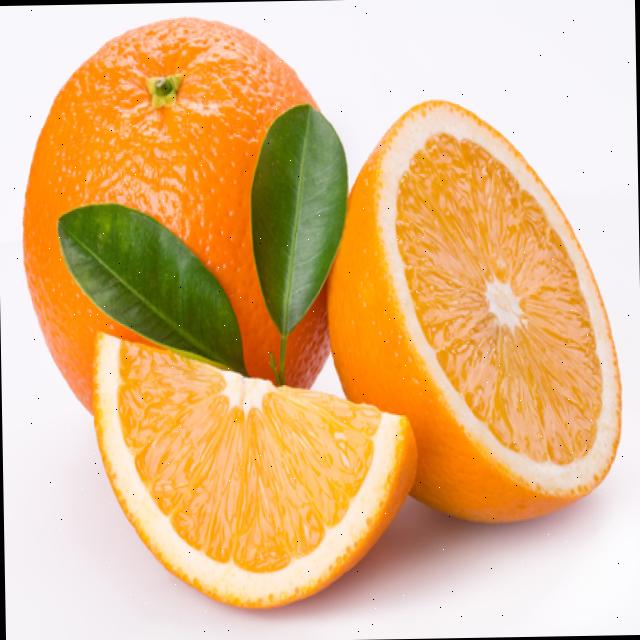Jeruk: (322, 94, 624, 526), (17, 13, 334, 416), (90, 323, 420, 612)
